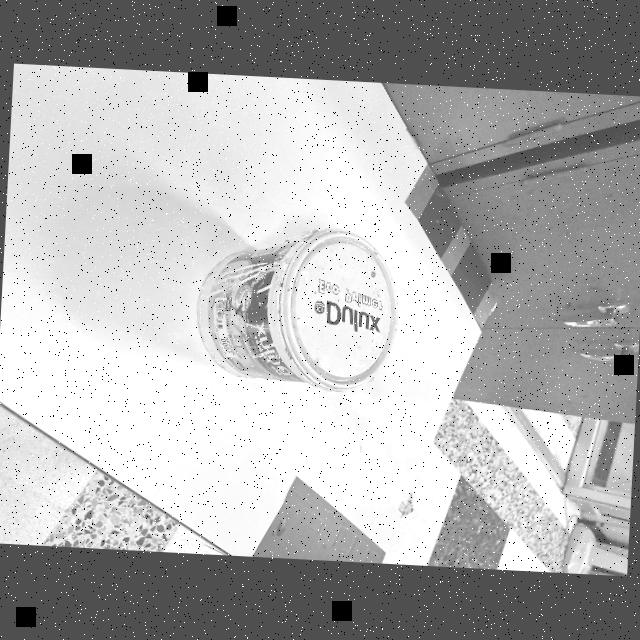paint_bucket: (177, 208, 412, 410)
